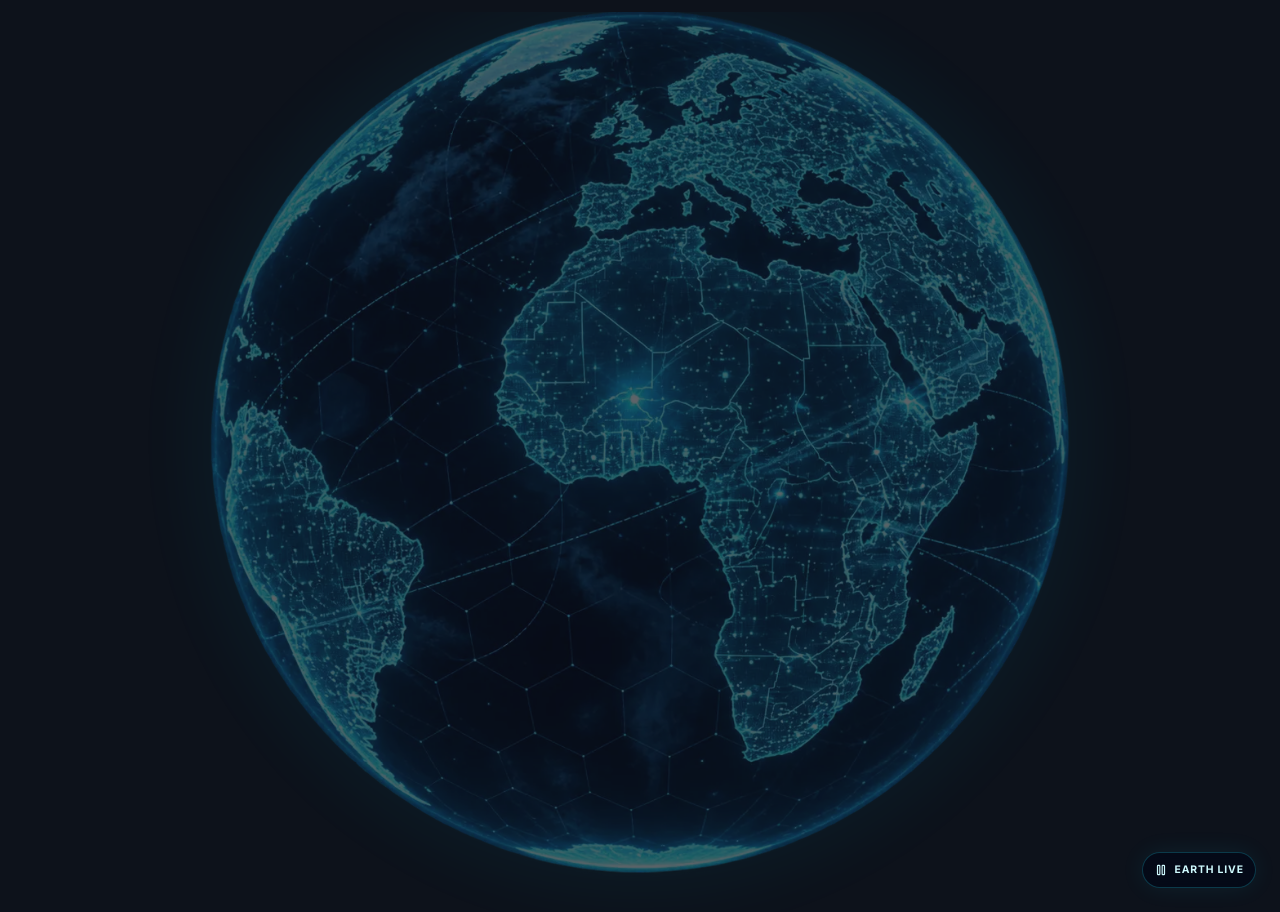
Test: InteractiveEarthShowcase › rotates by default and lets a visitor pause and restart it
Later steps or results of the test are not shown.
Step 1. Click the button with aria-label "Pause rotating Earth" → (1199, 870), box 1142,852 -> 1256,888
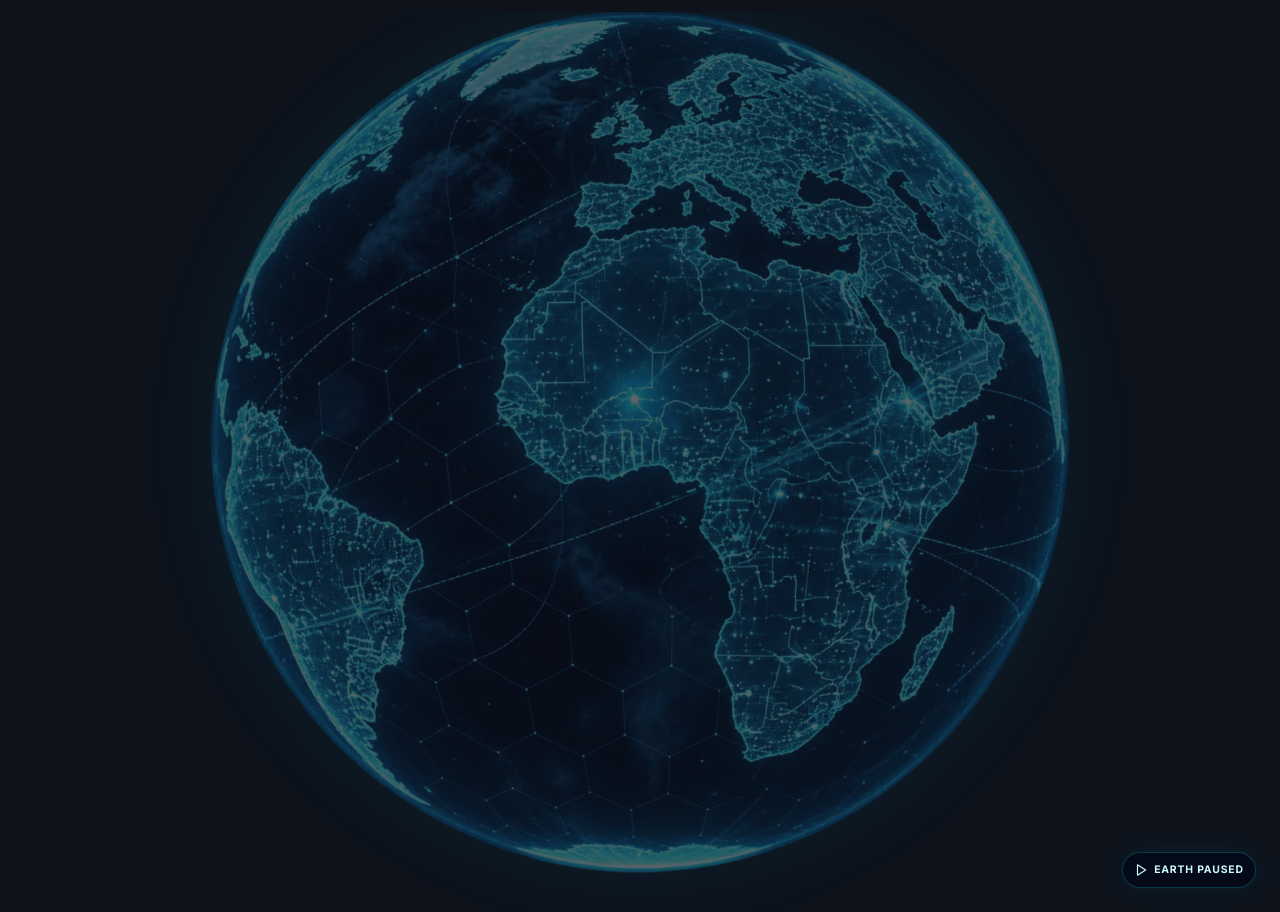
Now the button with aria-label "Start rotating Earth" is not pressed
Step 2. Click the button with aria-label "Start rotating Earth" → (1189, 870), box 1122,852 -> 1256,888
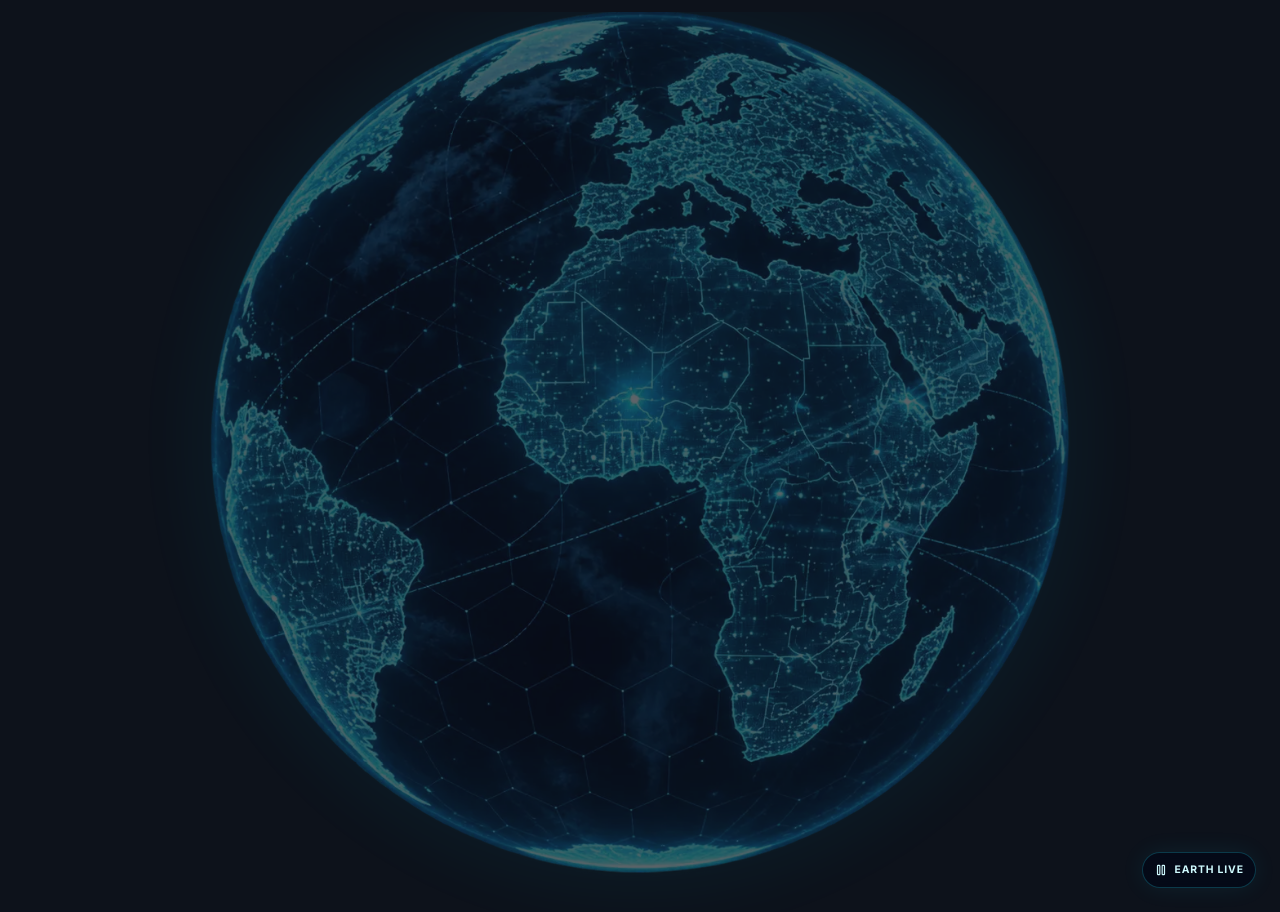
Now the button with aria-label "Pause rotating Earth" is shown, box 1142,852 -> 1256,888
